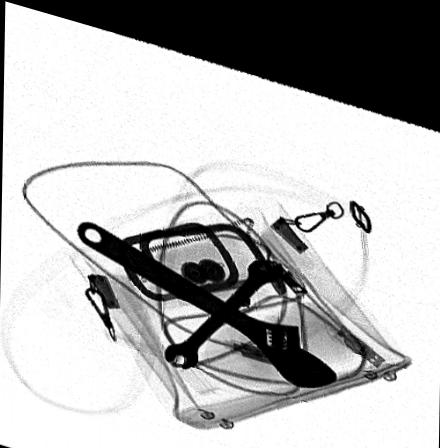Wrench: (75, 215, 337, 368), (163, 242, 283, 357)
